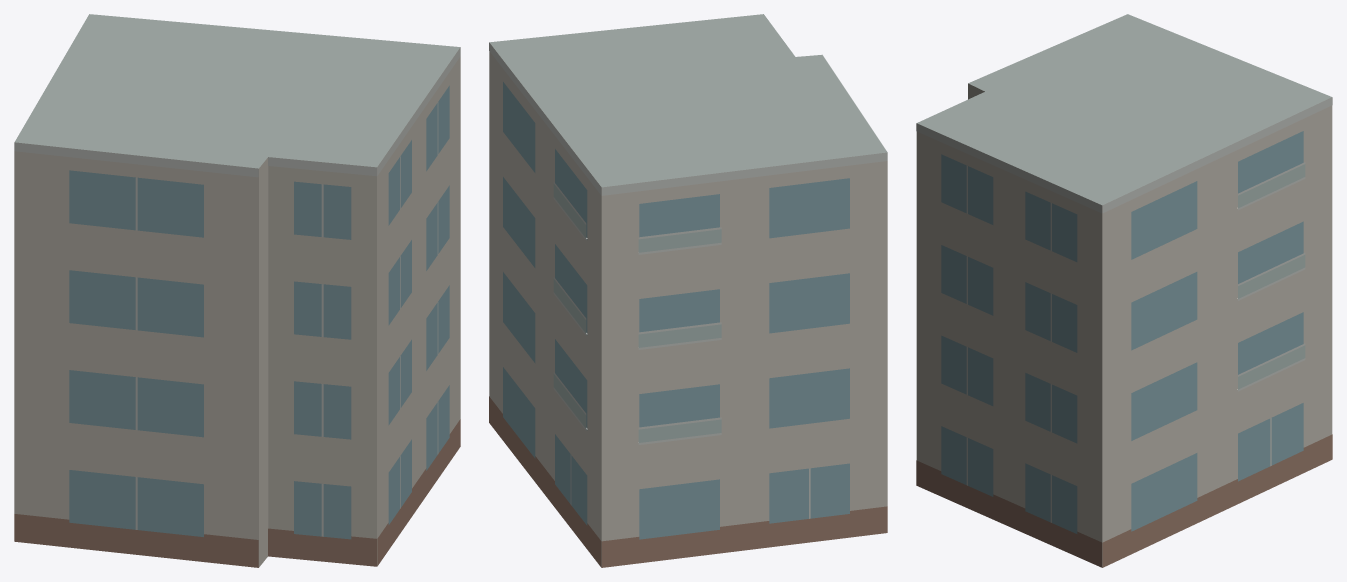
The model's file is survey-upis-32511348.glb.
3 views of the same model, side by side, from view 1: azimuth 30°, elevation 25°; view 2: azimuth 150°, elevation 25°; view 3: azimuth 270°, elevation 25° (orthographic). The views are drawn at different scales.
Visible parts, largest first — view 1: survey-upis-32511348.tmp; view 2: survey-upis-32511348.tmp; view 3: survey-upis-32511348.tmp.
Boxes of the visible parts, x1,y1,x2,y2 form: survey-upis-32511348.tmp: (14,14,460,567); survey-upis-32511348.tmp: (489,14,887,567); survey-upis-32511348.tmp: (916,14,1332,567).
Bounding box in the file's own units: 12.35 × 10.9 × 11.34.
